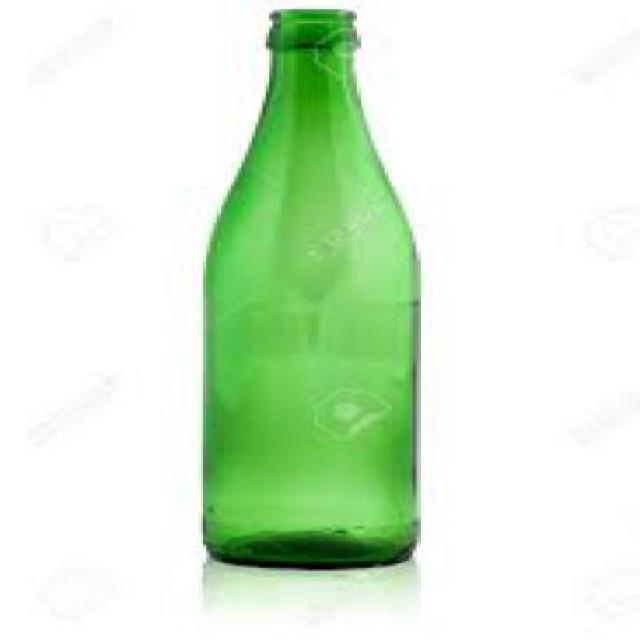glass: (197, 8, 417, 568)
